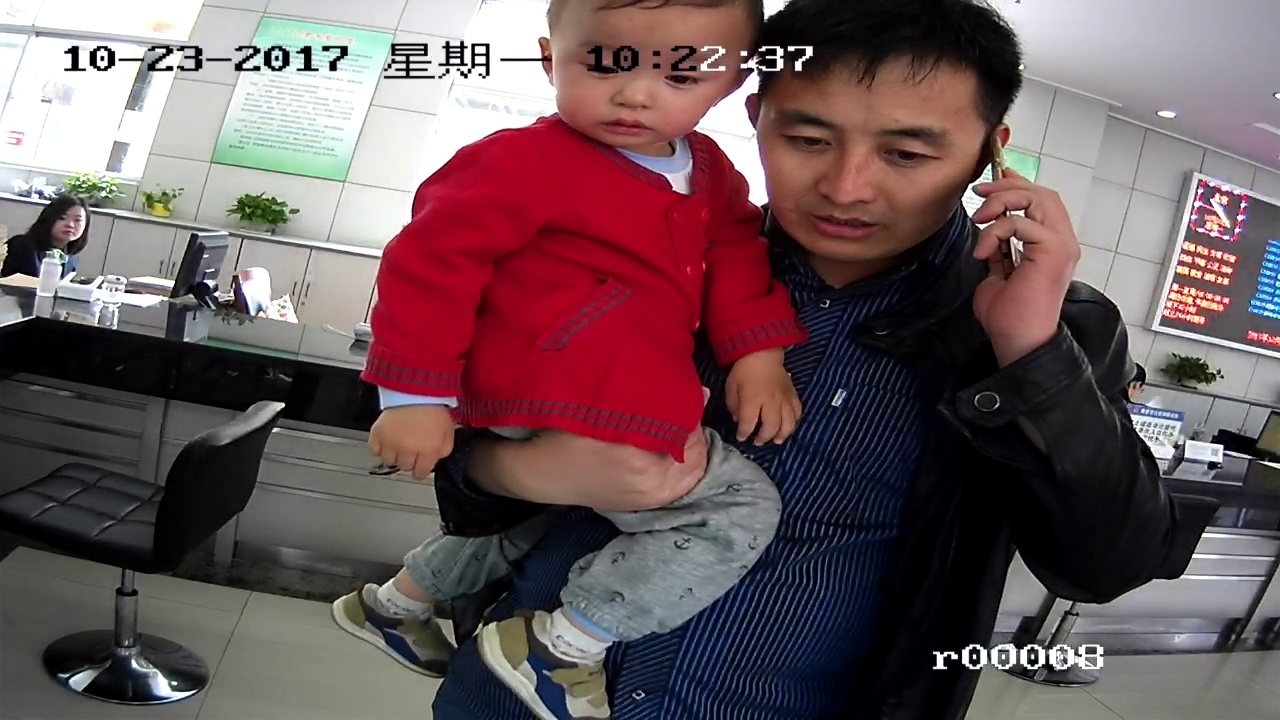chair: (12, 409, 291, 701)
person: (760, 1, 1101, 535), (529, 1, 751, 243), (15, 199, 95, 258)
pot: (227, 191, 294, 233), (76, 167, 128, 219), (139, 189, 178, 221)
